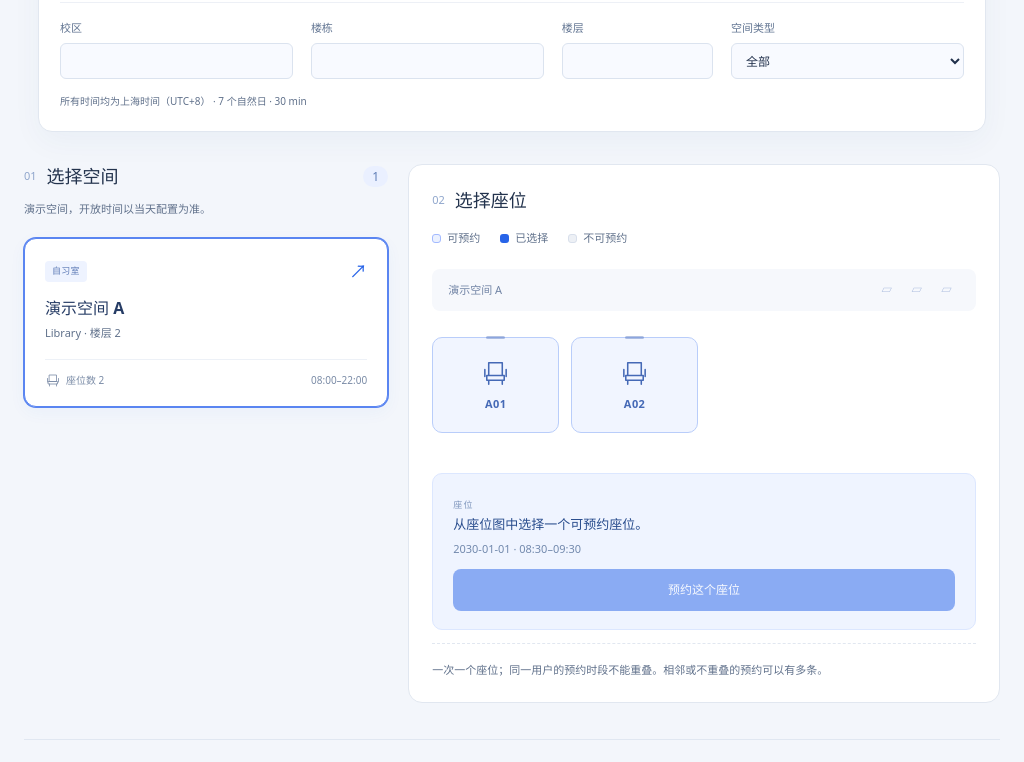
Test: local reservation application › keeps a conflict visible without showing a success or a fabricated booking
(page scrolled)
Step 1. Click the button "A01" → (496, 384), box [432,336,559,432]
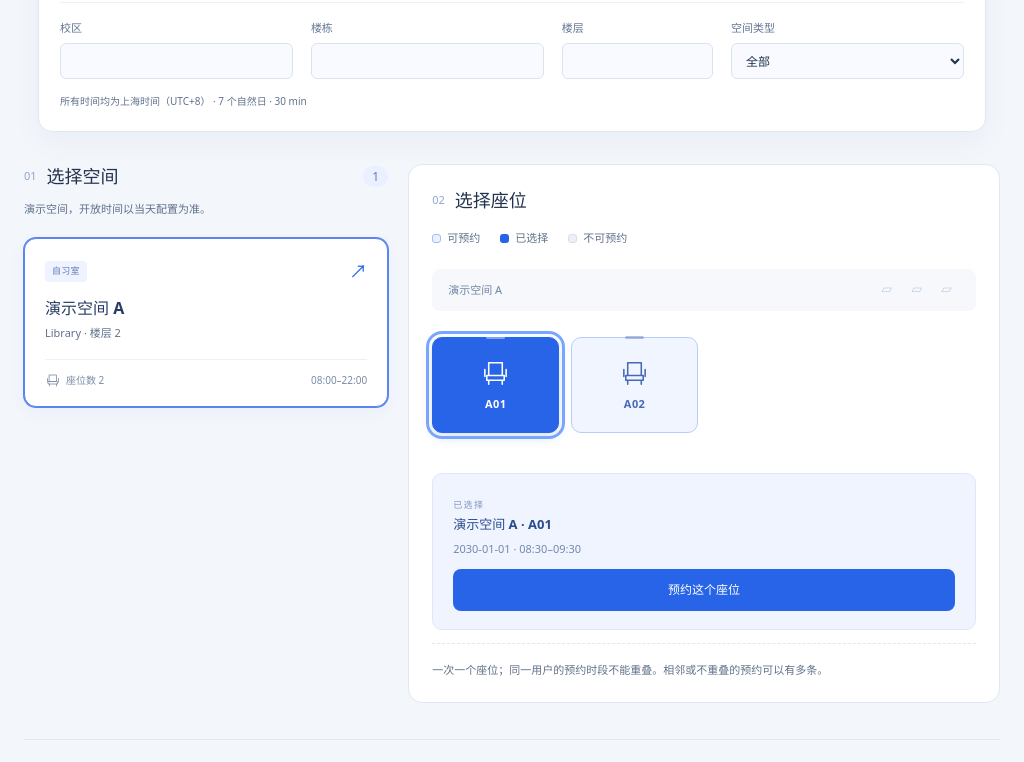
Step 2. Click the button "预约这个座位" → (704, 590), box [453,569,955,610]
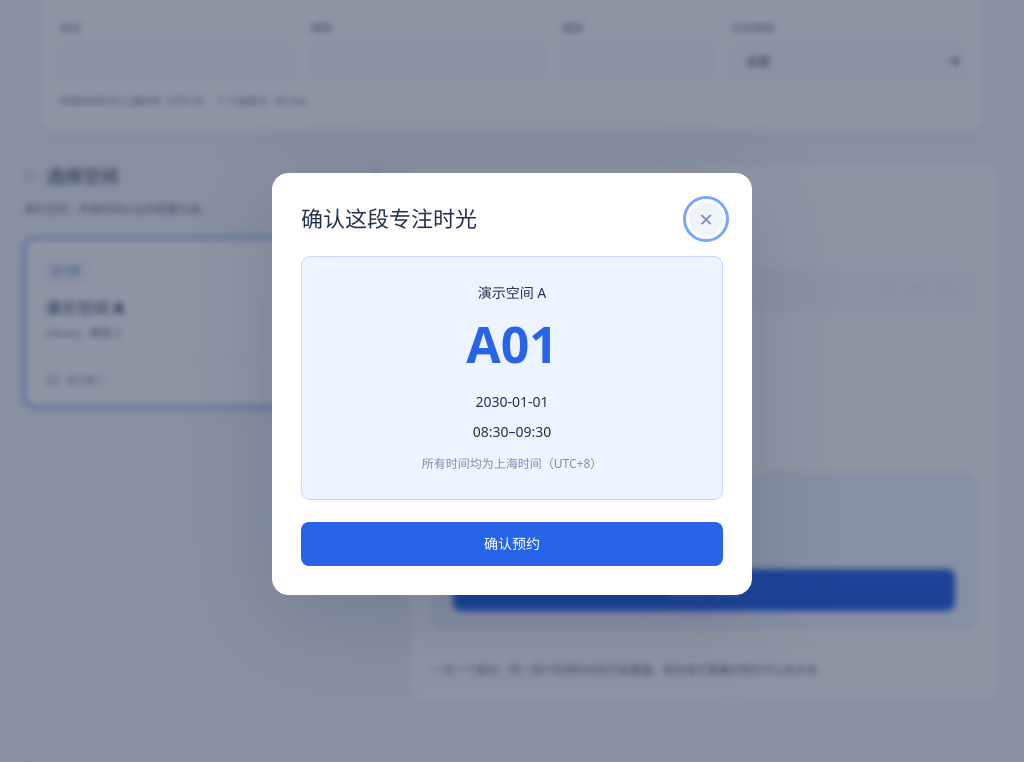
Step 3. Click the button "确认预约" → (512, 544), box [301,522,723,566]
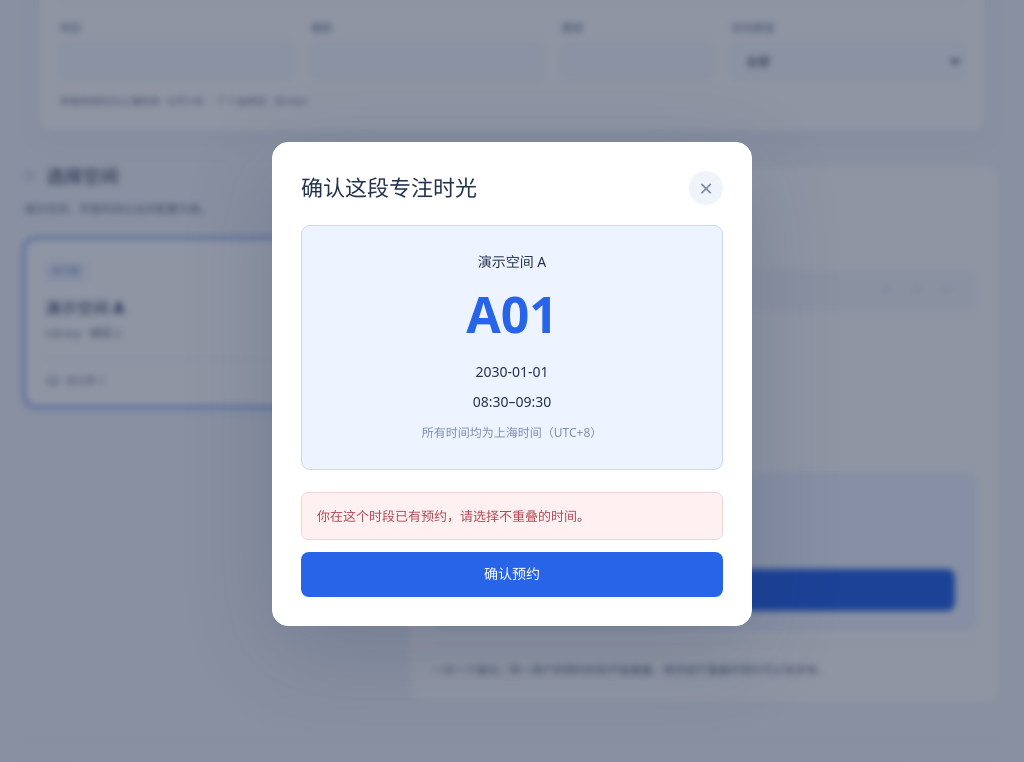
Now the text "你在这个时段已有预约，请选择不重叠的时间。" is shown, box [317,506,590,526]
